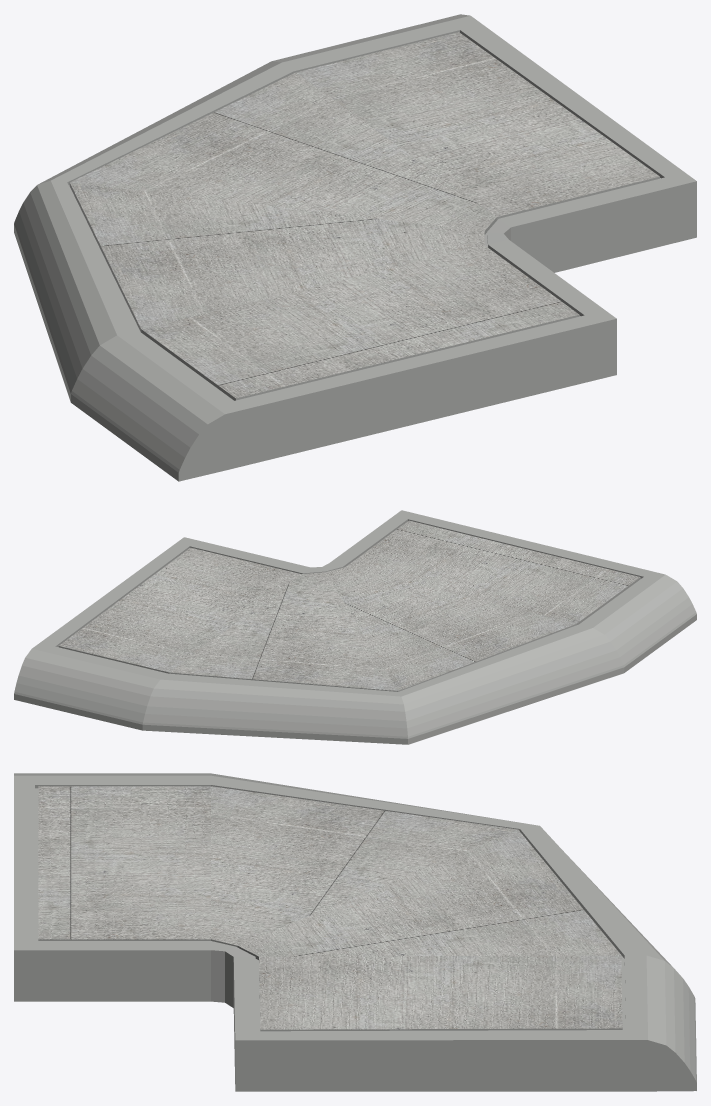
File: sidewalkCurbCurve.glb
The picture shows the model from 3 angles, top to bottom: view 1: azimuth 30°, elevation 25°; view 2: azimuth 150°, elevation 25°; view 3: azimuth 270°, elevation 25°; orthographic projection. The views are drawn at different scales.
Visible parts, largest first — view 1: Cube, Cube.001, Cube.003, Cube.002; view 2: Cube, Cube.001, Cube.003, Cube.002; view 3: Cube, Cube.001, Cube.003, Cube.002.
Boxes of the visible parts, box(x1,y1,x2,y2) form: Cube: box(14, 14, 696, 481); Cube.001: box(141, 32, 659, 398); Cube.003: box(70, 182, 484, 328); Cube.002: box(70, 72, 496, 231); Cube: box(14, 510, 696, 744); Cube.001: box(59, 520, 639, 672); Cube.003: box(325, 567, 576, 690); Cube.002: box(170, 572, 397, 690); Cube: box(14, 773, 696, 1091); Cube.001: box(38, 786, 622, 1029); Cube.003: box(211, 786, 517, 945); Cube.002: box(238, 829, 620, 956).
Bounding box in the file's own units: 14.44 × 1.23 × 14.64.
2 materials, 2 textured.
